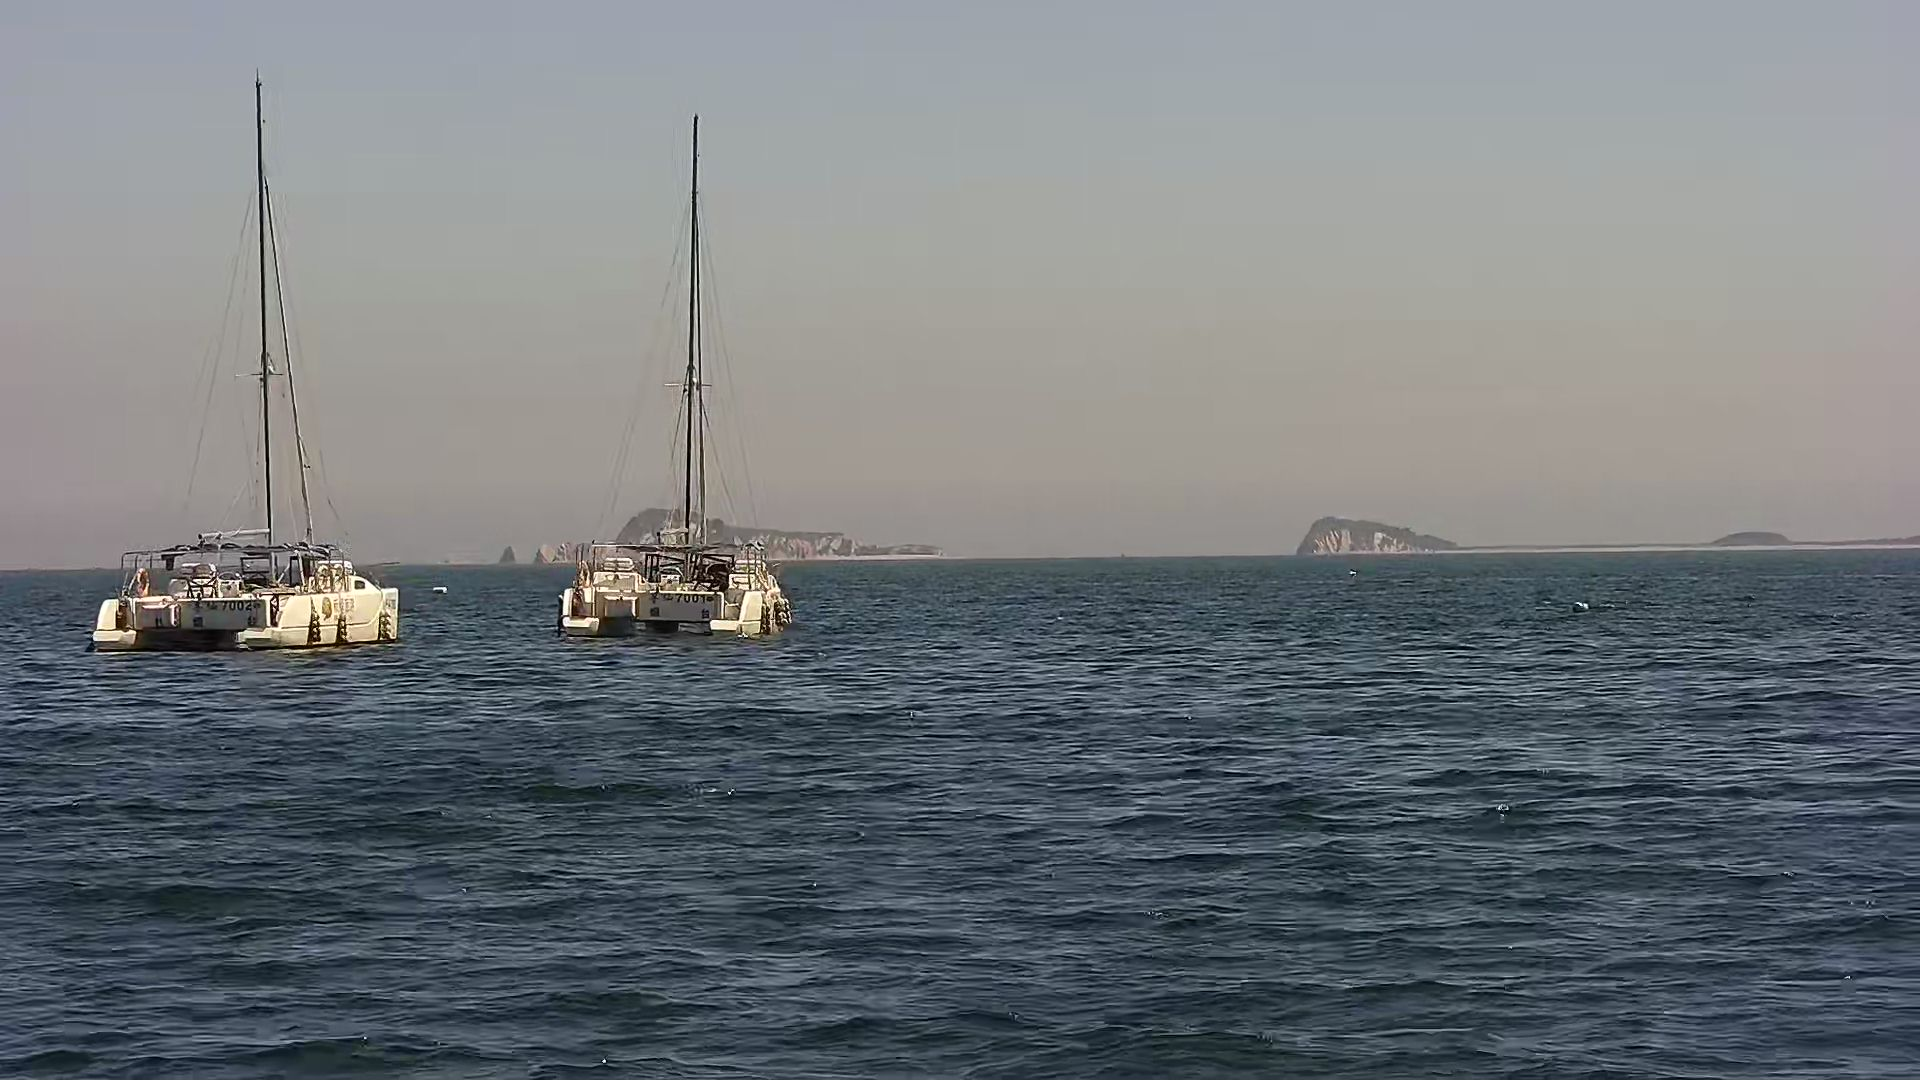boat: (83, 58, 418, 653), (535, 103, 804, 647)
rock: (608, 509, 942, 558), (1283, 516, 1493, 550), (1705, 518, 1804, 546)
rubbish: (427, 575, 458, 609)
